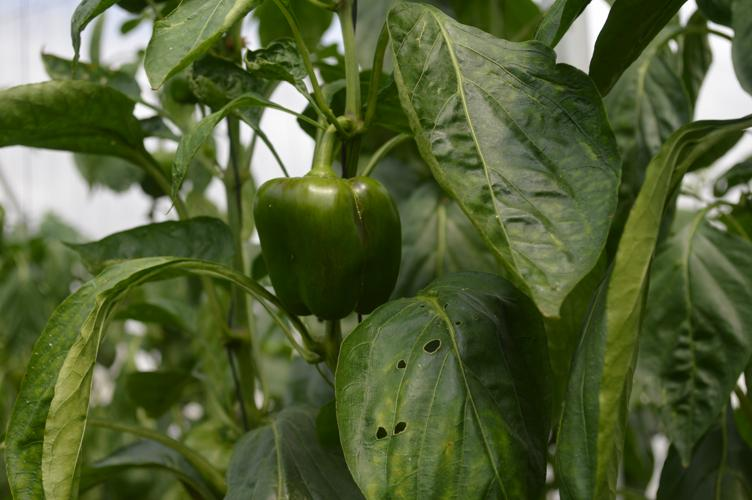BellPepper: (251, 176, 406, 319)
